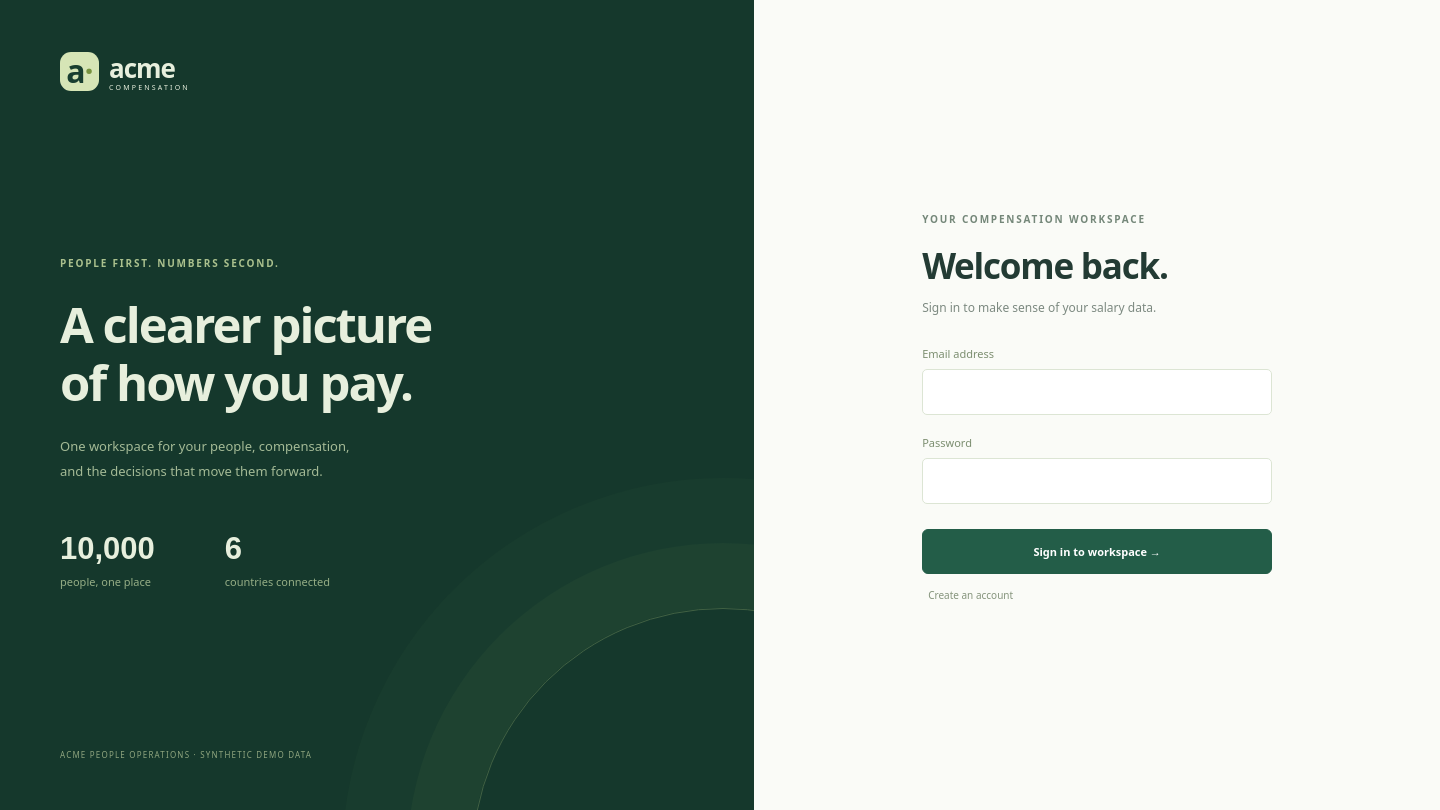
Test: Login displays API errors without authenticating
Expected: the password field labelled "Password" is empty, [922,458,1272,504]
In the field labelled "Email address": [1097, 392] box [922,368,1272,414], type "user@example.com"
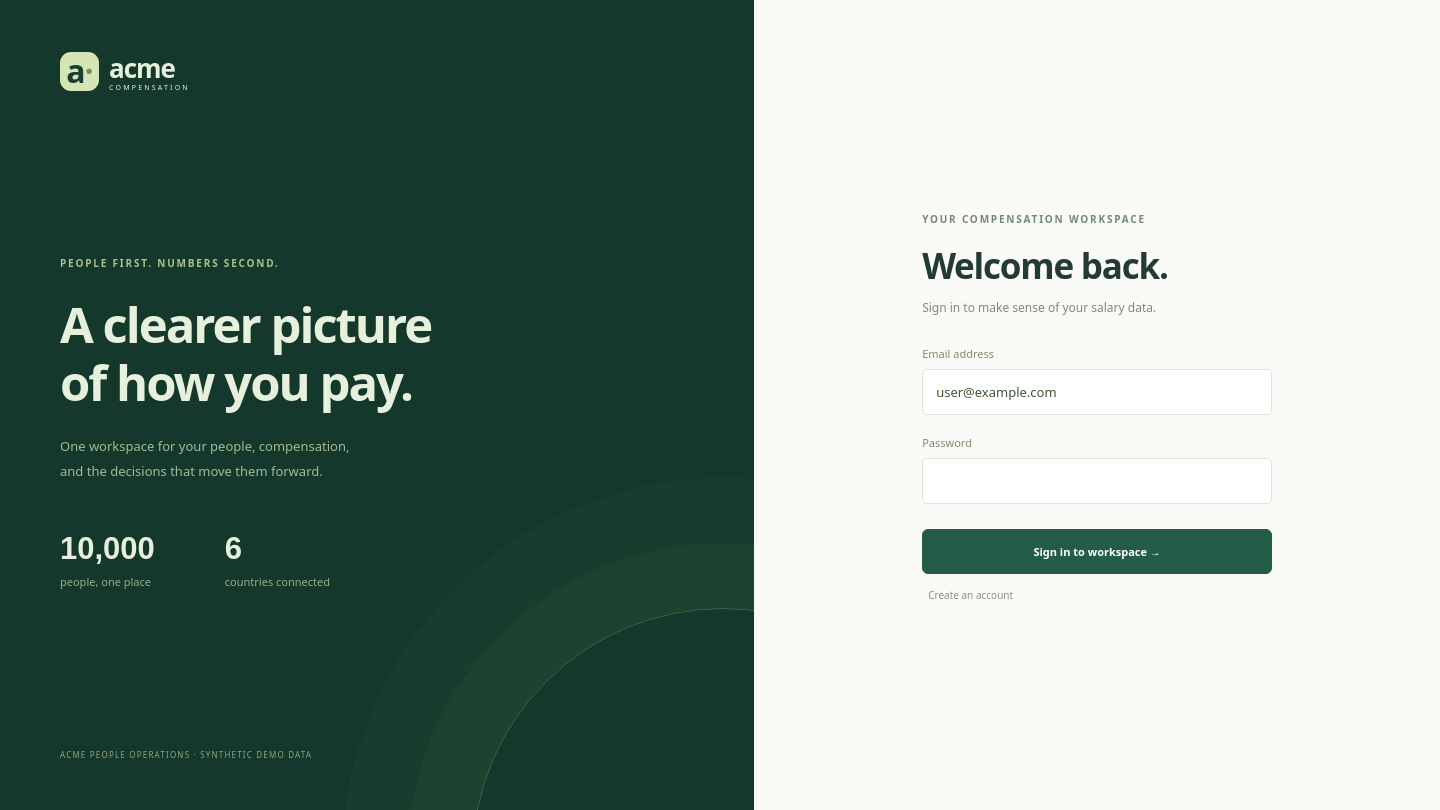
In the password field labelled "Password": [1097, 480] box [922,458,1272,504], type "LongPassword42!"
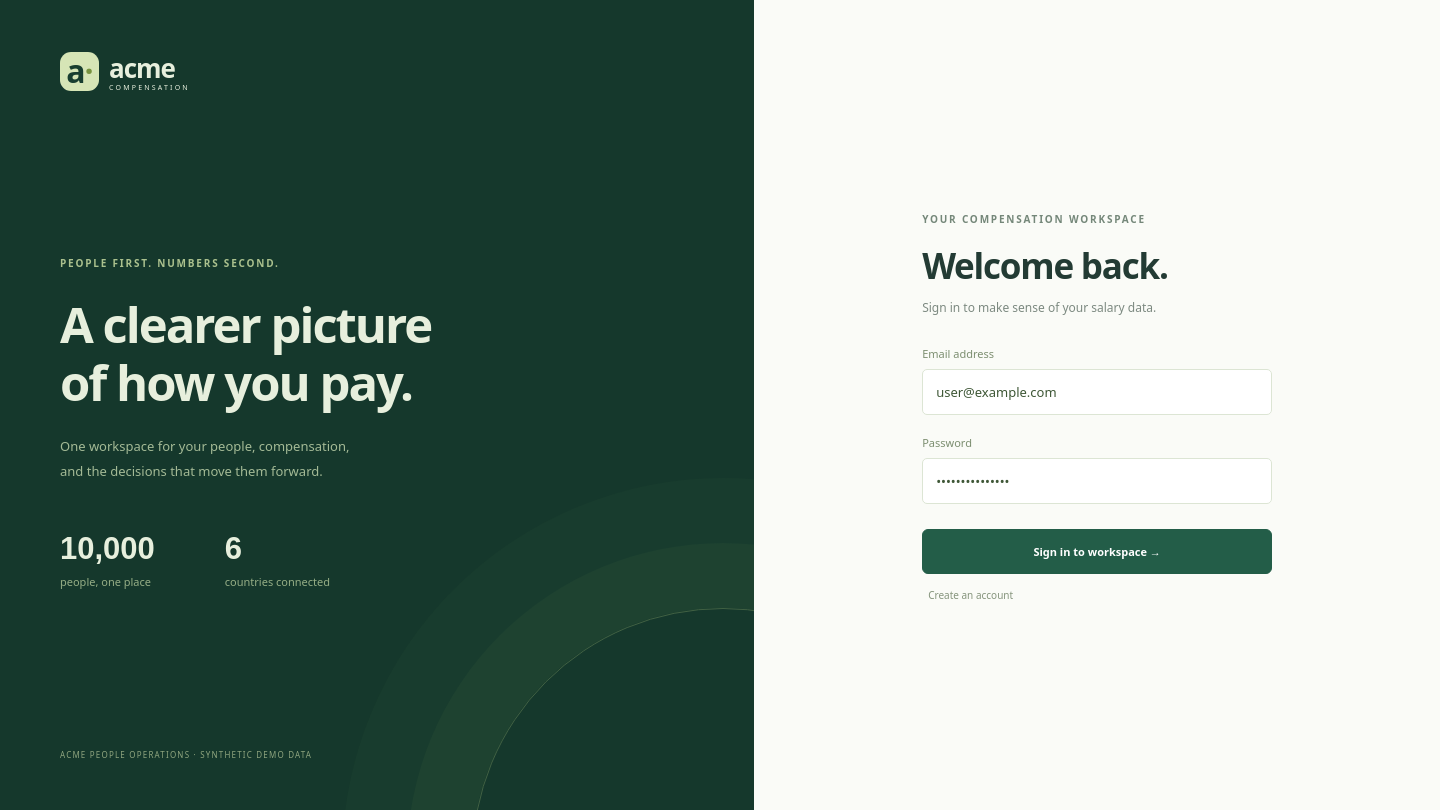
Click the button "Sign in to workspace →": [1097, 551] box [922,528,1272,574]
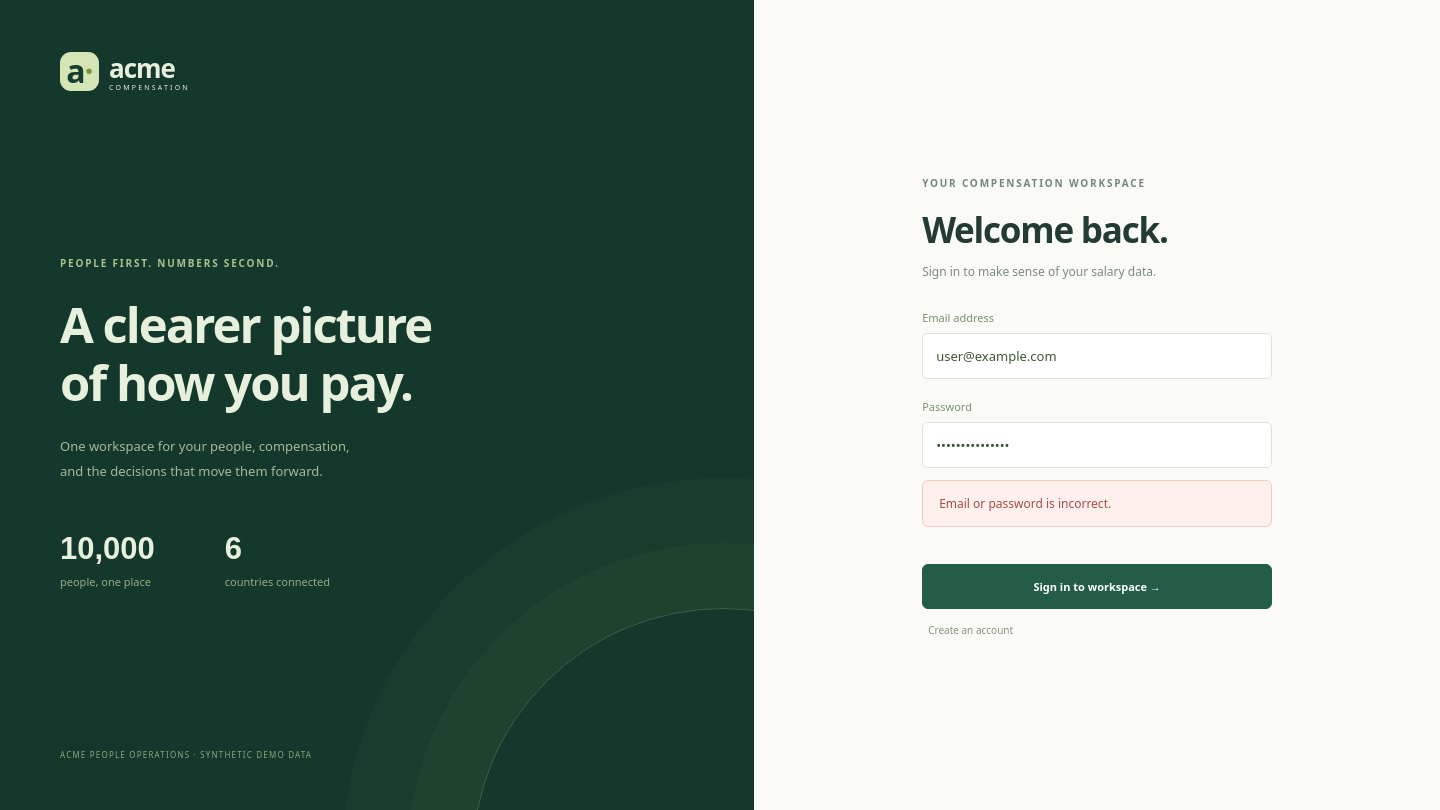
Expected: the message reads "Email or password is incorrect.", [939,495,1111,512]
